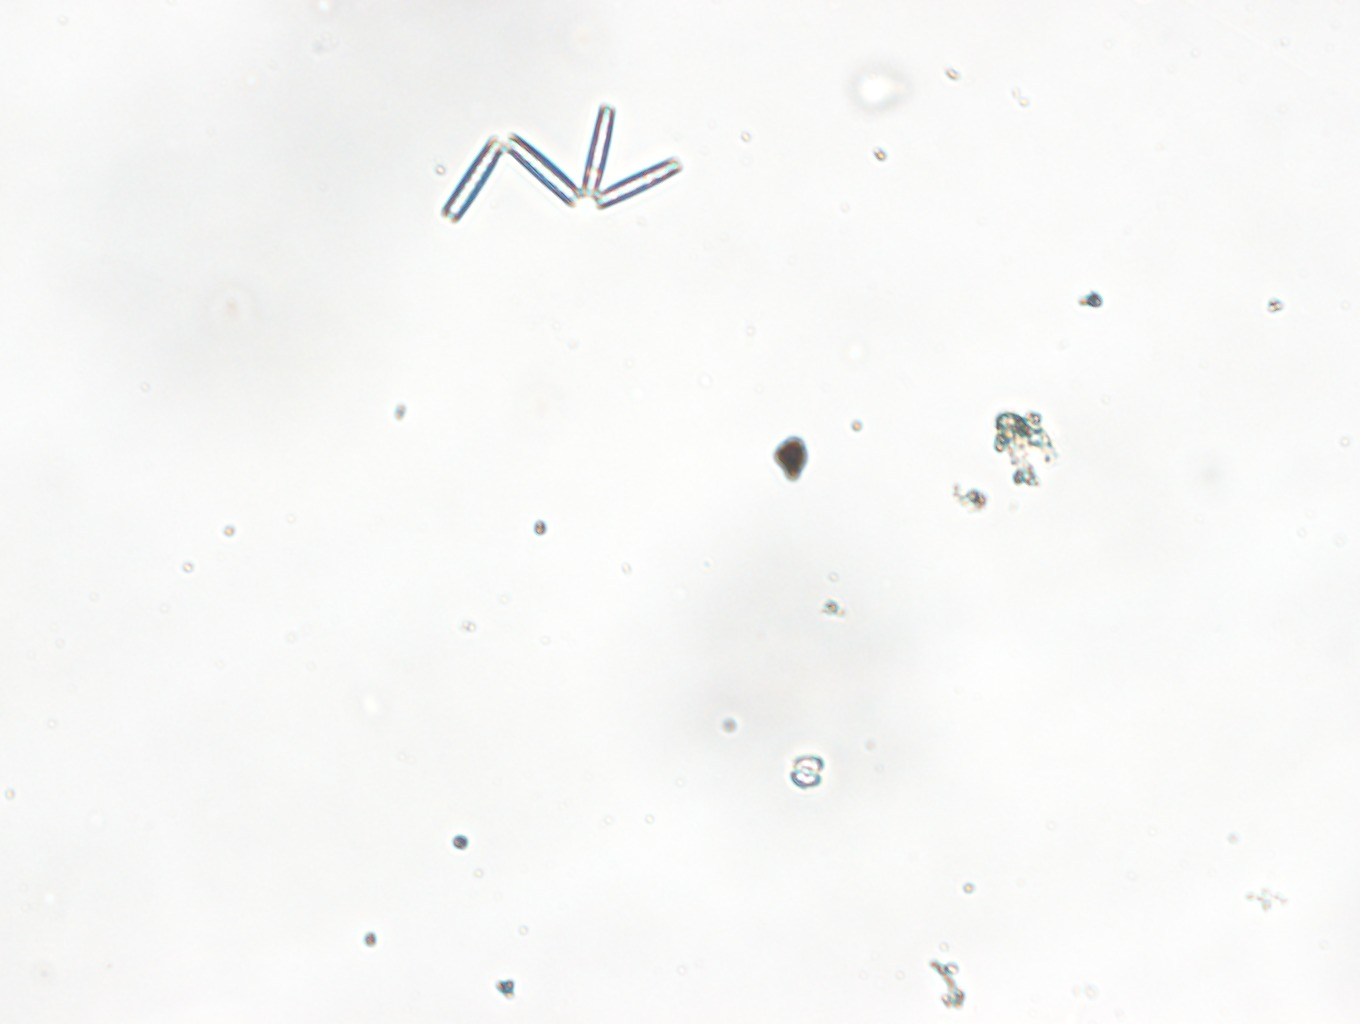thalassionema nitzschioides: (440, 102, 685, 225)
